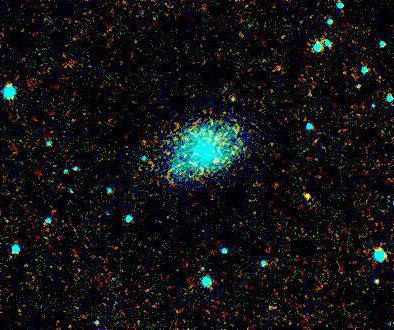star: (220, 83, 250, 113)
